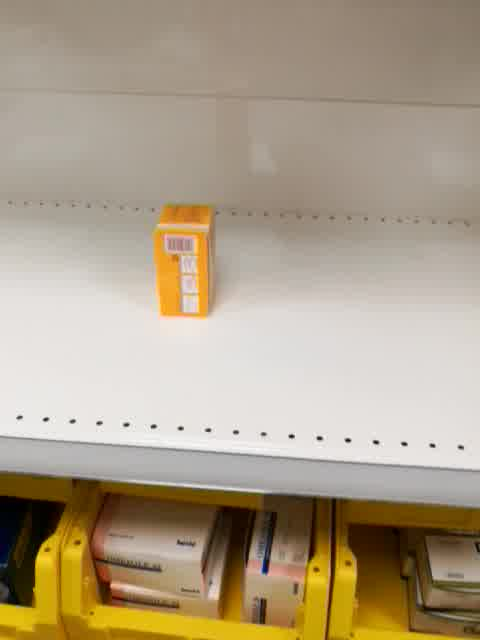jasminetea: (153, 203, 215, 319)
